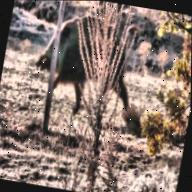boar: (25, 3, 153, 129)
